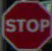Stop: (2, 5, 48, 43)
